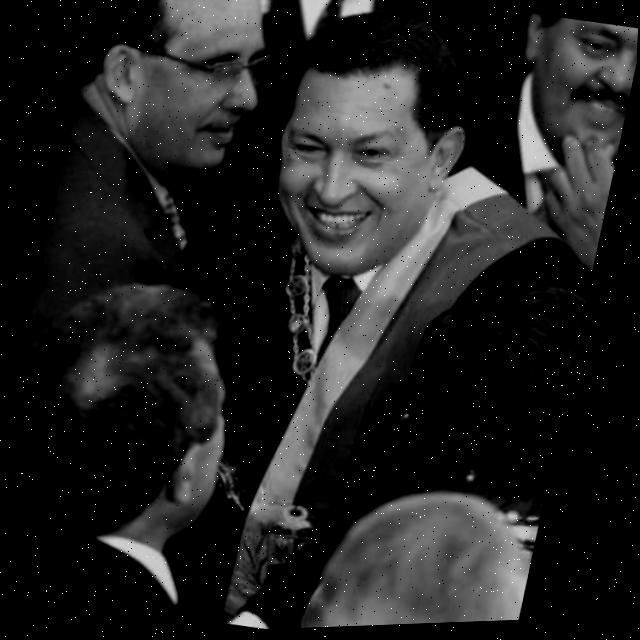face: (255, 59, 456, 287), (111, 1, 280, 190), (508, 14, 638, 169)
